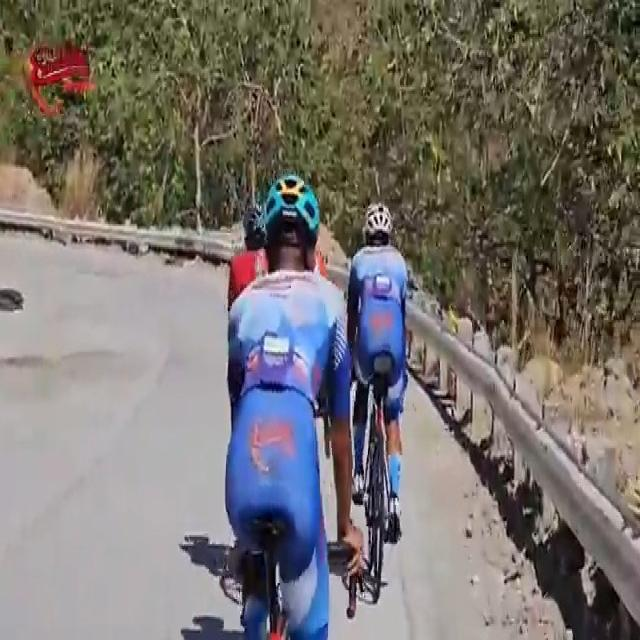bike: (224, 167, 359, 640), (345, 203, 407, 598)
